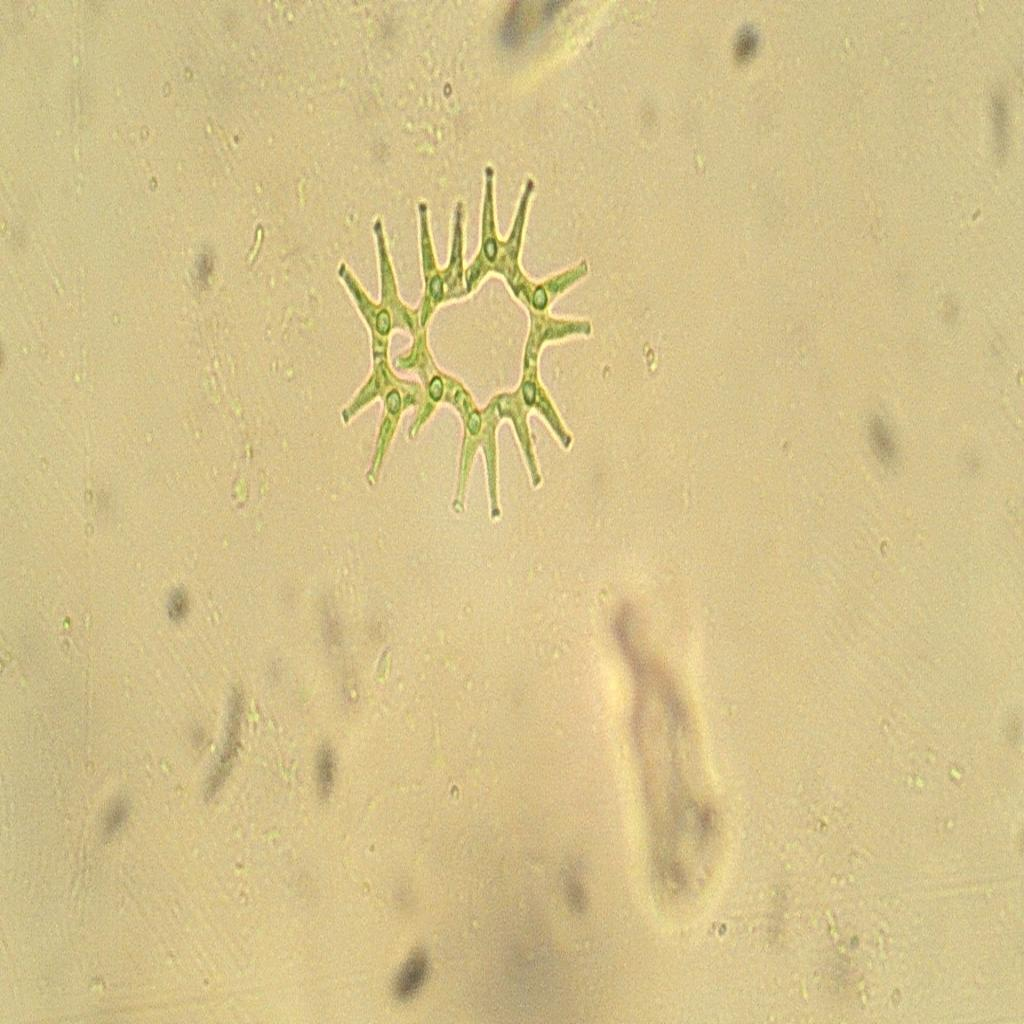Pediastrum_CFI: (327, 149, 613, 543)
